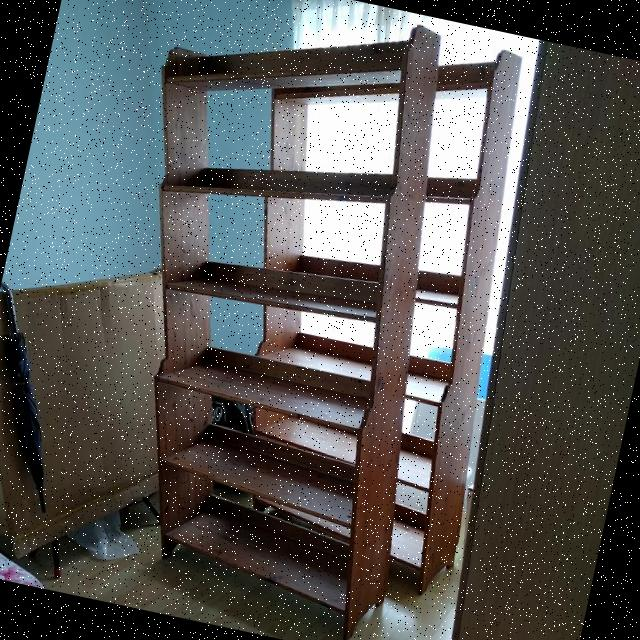Shelf: (44, 0, 568, 640)
